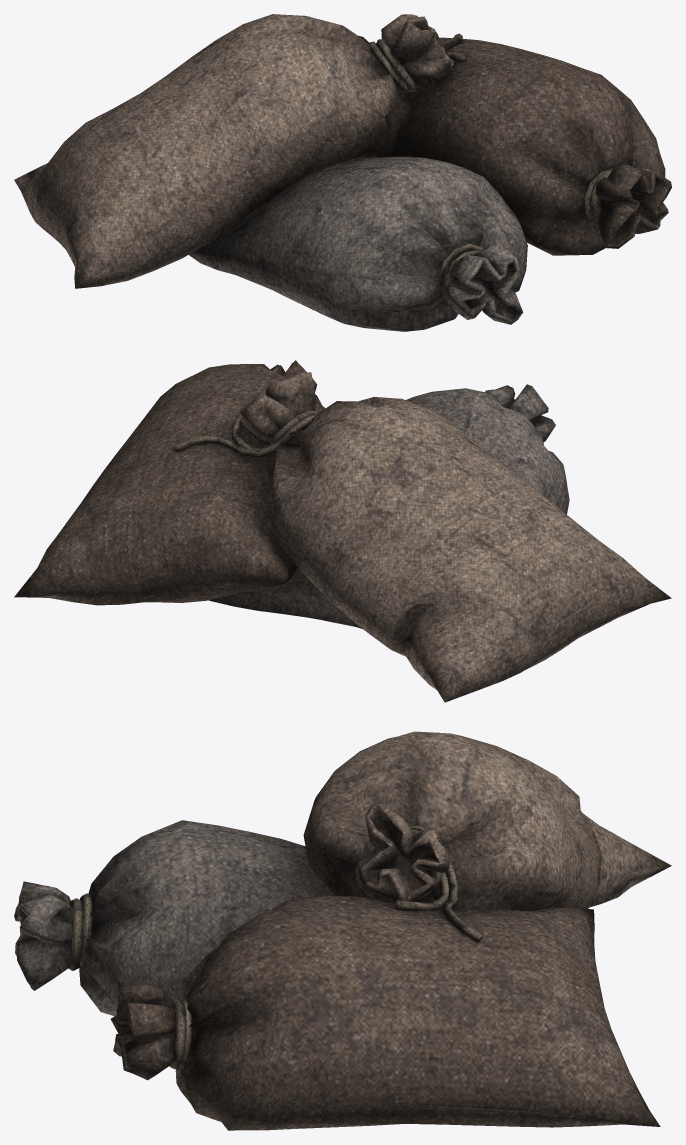
The model's file is BurlapSacksB.fbx.
3 views of the same model, one above another, from view 1: azimuth 30°, elevation 25°; view 2: azimuth 150°, elevation 25°; view 3: azimuth 270°, elevation 25° (orthographic). The views are drawn at different scales.
Visible parts, largest first — view 1: BurlapSacksB; view 2: BurlapSacksB; view 3: BurlapSacksB.
Part boxes in pixels (<box>): BurlapSacksB: <box>14,14,671,331</box>; BurlapSacksB: <box>14,360,671,702</box>; BurlapSacksB: <box>14,731,671,1130</box>.
Bounding box in the file's own units: 1.46 × 0.5079 × 1.28.
1 material, 1 textured.
